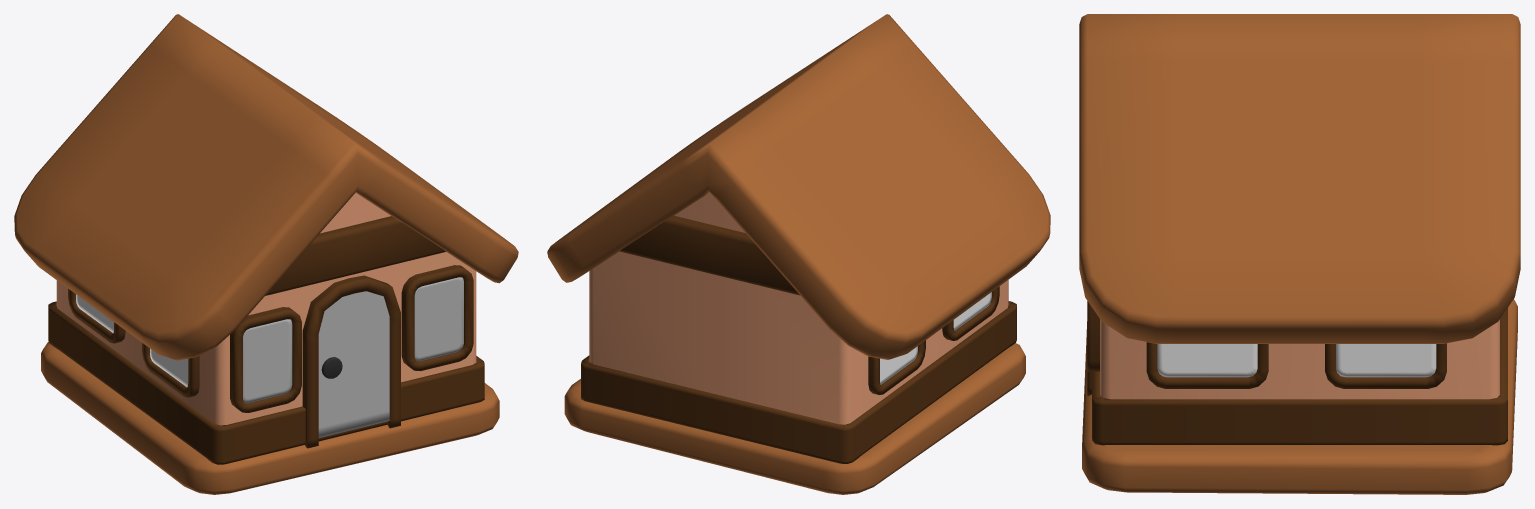
File: house.glb
3 renders of one model, left to right at view 1: azimuth 30°, elevation 25°; view 2: azimuth 150°, elevation 25°; view 3: azimuth 270°, elevation 25°, orthographic. The views are drawn at different scales.
Visible parts, largest first — view 1: Cube003, Cube001, Cube009, Cube002, Cube010, Cube133, Cube008, Cube005, Cube004, Cube134, Cube136, Cube135; view 2: Cube003, Cube002, Cube009, Cube001, Cube008, Cube136, Cube134, Cube137; view 3: Cube003, Cube001, Cube009, Cube002, Cube135, Cube137, Cube134, Cube136, Cube005.
Boxes of the visible parts, x1=… form: Cube003: x1=14, y1=14, x2=518, y2=360; Cube001: x1=41, y1=342, x2=499, y2=494; Cube009: x1=48, y1=301, x2=484, y2=464; Cube002: x1=56, y1=192, x2=476, y2=425; Cube010: x1=318, y1=291, x2=389, y2=437; Cube133: x1=243, y1=277, x2=463, y2=403; Cube008: x1=265, y1=216, x2=445, y2=295; Cube005: x1=230, y1=265, x2=473, y2=412; Cube004: x1=302, y1=275, x2=400, y2=448; Cube134: x1=142, y1=343, x2=199, y2=397; Cube136: x1=68, y1=288, x2=125, y2=343; Cube135: x1=150, y1=348, x2=188, y2=387; Cube003: x1=547, y1=14, x2=1050, y2=359; Cube002: x1=589, y1=192, x2=1008, y2=424; Cube009: x1=581, y1=301, x2=1016, y2=463; Cube001: x1=564, y1=343, x2=1025, y2=494; Cube008: x1=619, y1=215, x2=799, y2=295; Cube136: x1=868, y1=340, x2=925, y2=394; Cube134: x1=942, y1=286, x2=999, y2=340; Cube137: x1=880, y1=346, x2=917, y2=384; Cube003: x1=1079, y1=14, x2=1520, y2=343; Cube001: x1=1082, y1=299, x2=1517, y2=494; Cube009: x1=1092, y1=308, x2=1507, y2=445; Cube002: x1=1100, y1=319, x2=1499, y2=399; Cube135: x1=1157, y1=344, x2=1257, y2=377; Cube137: x1=1336, y1=344, x2=1436, y2=377; Cube134: x1=1146, y1=342, x2=1268, y2=388; Cube136: x1=1325, y1=343, x2=1446, y2=388; Cube005: x1=1087, y1=301, x2=1099, y2=371.
Bounding box in the file's own units: 2.3 × 1.94 × 1.99.
